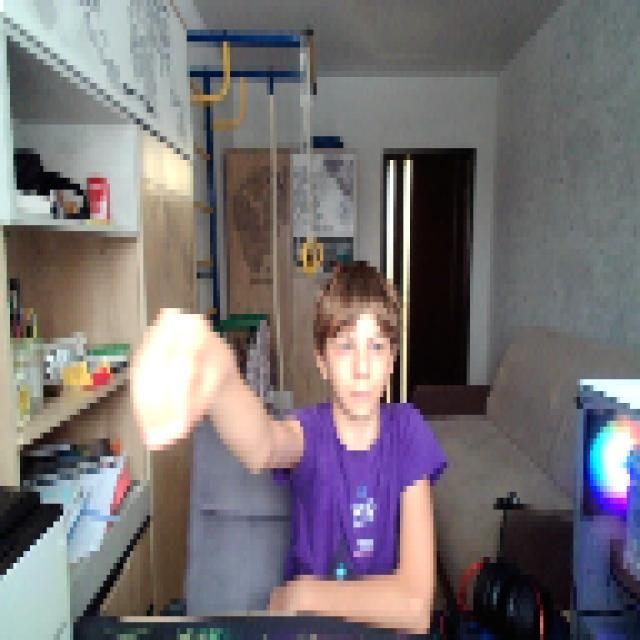left_click: (126, 296, 216, 451)
